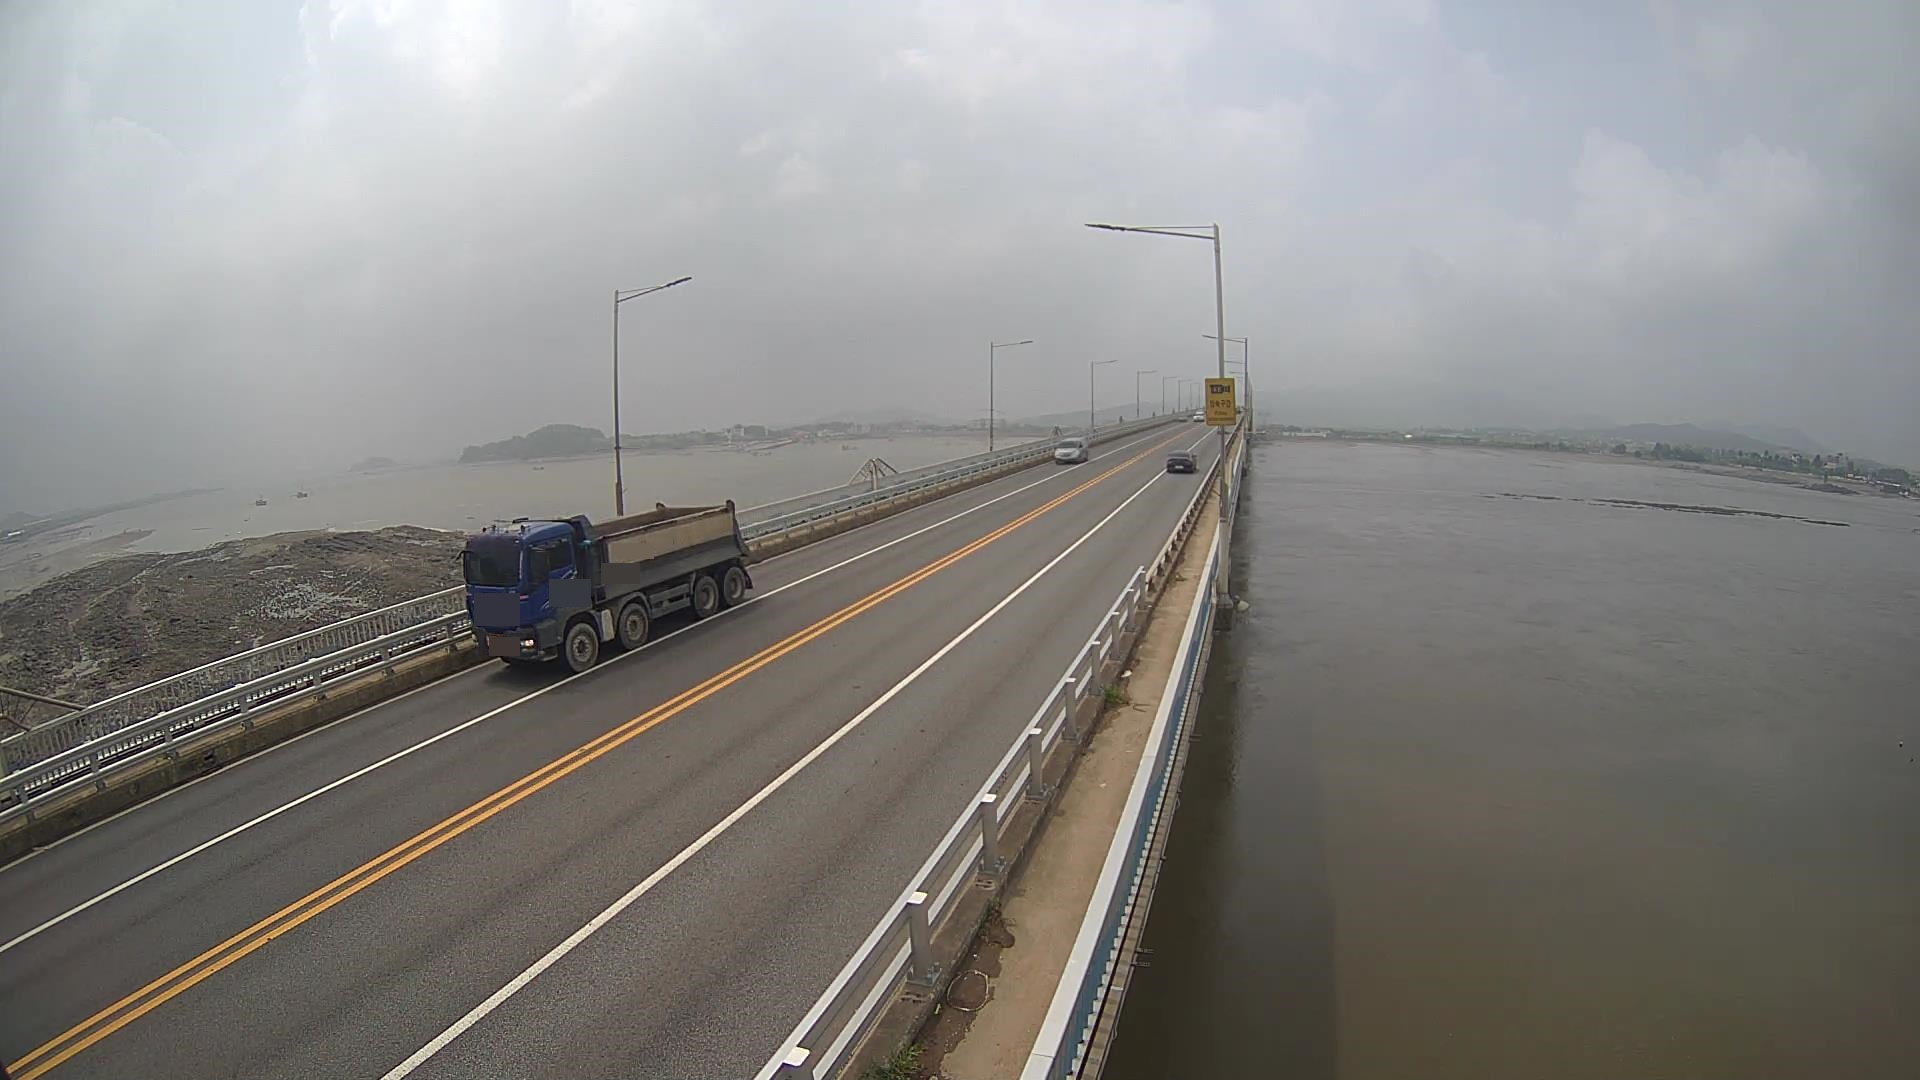정상차량: (457, 499, 755, 674)
